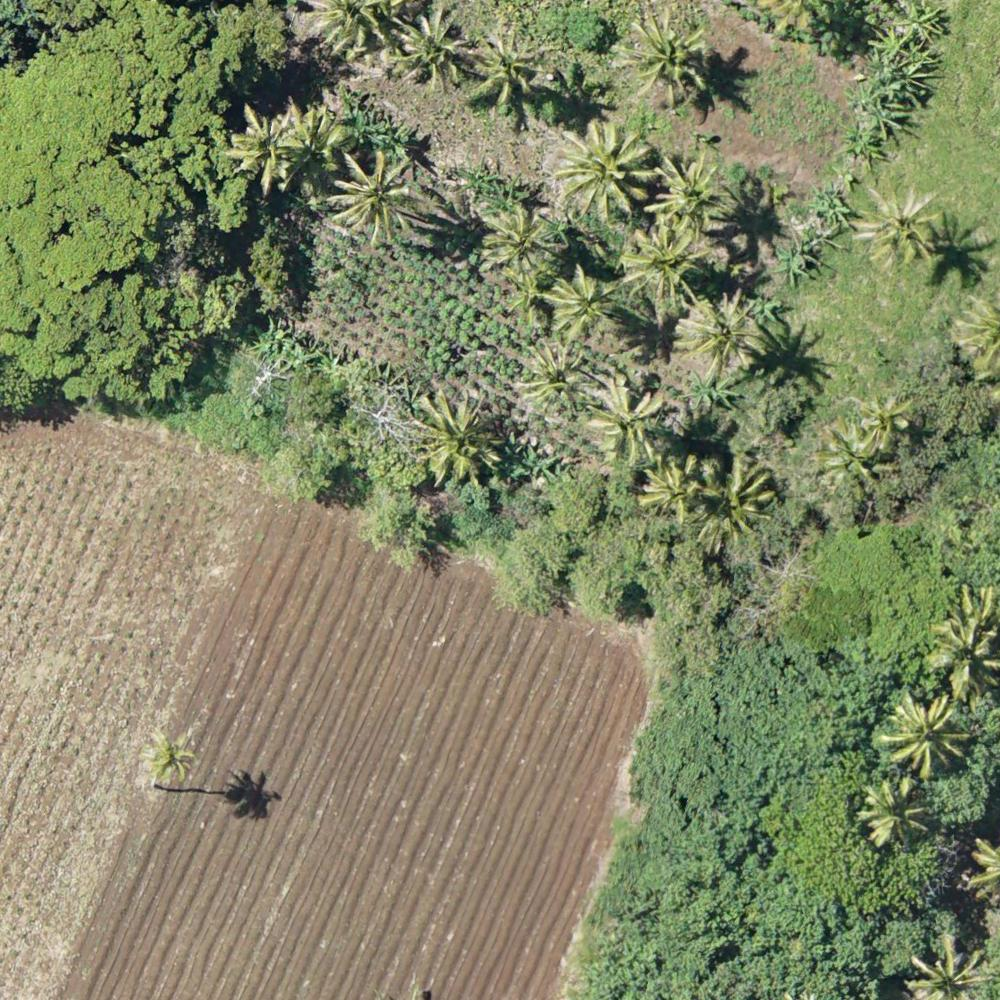Palm: (556, 119, 653, 218), (328, 151, 423, 241), (616, 12, 712, 101), (411, 391, 504, 478), (883, 696, 971, 783), (587, 380, 672, 468), (674, 296, 764, 378), (619, 224, 705, 307), (699, 459, 778, 548), (468, 30, 543, 111), (861, 186, 937, 265), (395, 7, 469, 88), (540, 268, 618, 342), (233, 105, 303, 182), (522, 344, 595, 414), (652, 156, 724, 226), (859, 779, 932, 847), (484, 205, 553, 274), (932, 624, 1000, 693), (643, 460, 702, 519), (139, 730, 195, 788), (856, 395, 912, 446)
